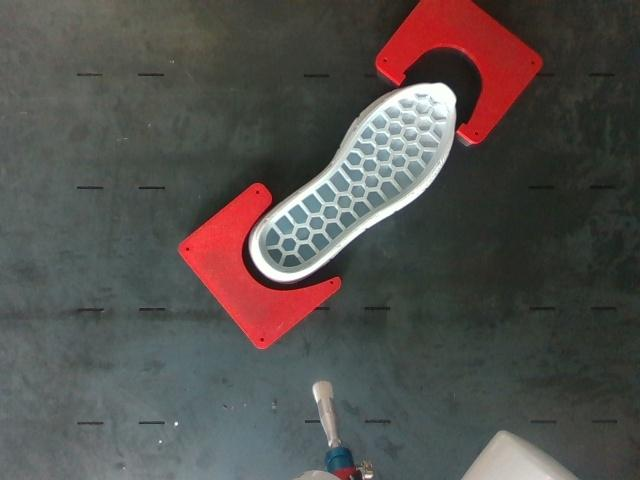shoes: (257, 85, 455, 272)
